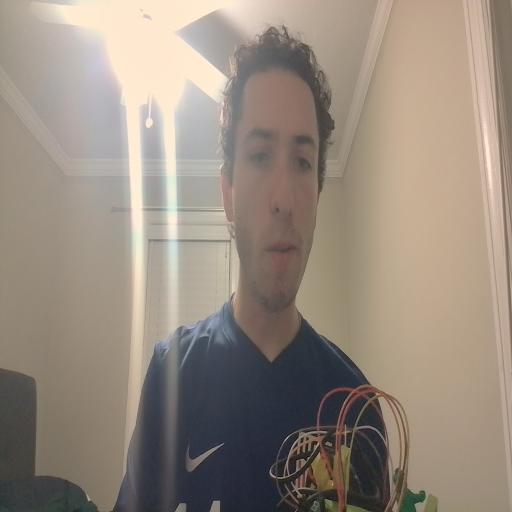green LEGO minifig: (392, 466, 426, 512)
